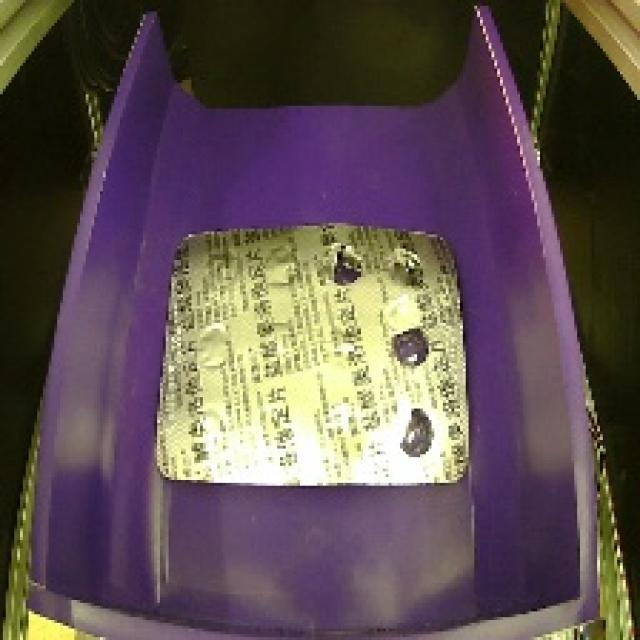med_plate: (139, 219, 486, 502)
